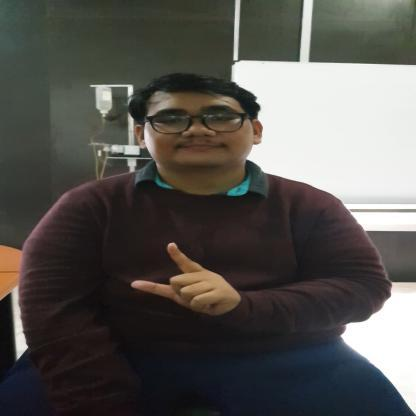L: (128, 240, 244, 316)
